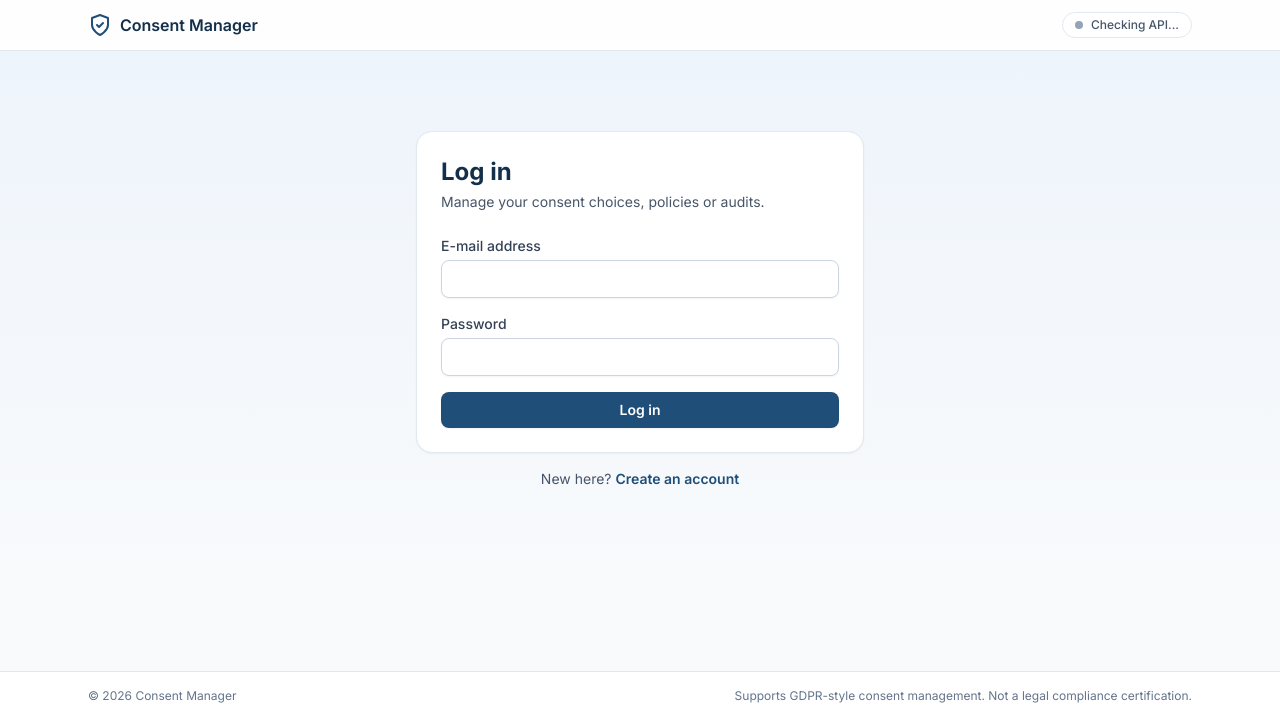
Test case: login (FR-2) › an ADMIN lands on the admin console
The width and height of the screenshot is (1280, 720).
Type "admin@demo.com" into the field labelled "E-mail address". click: [640, 279]
box: [441,260,839,298]
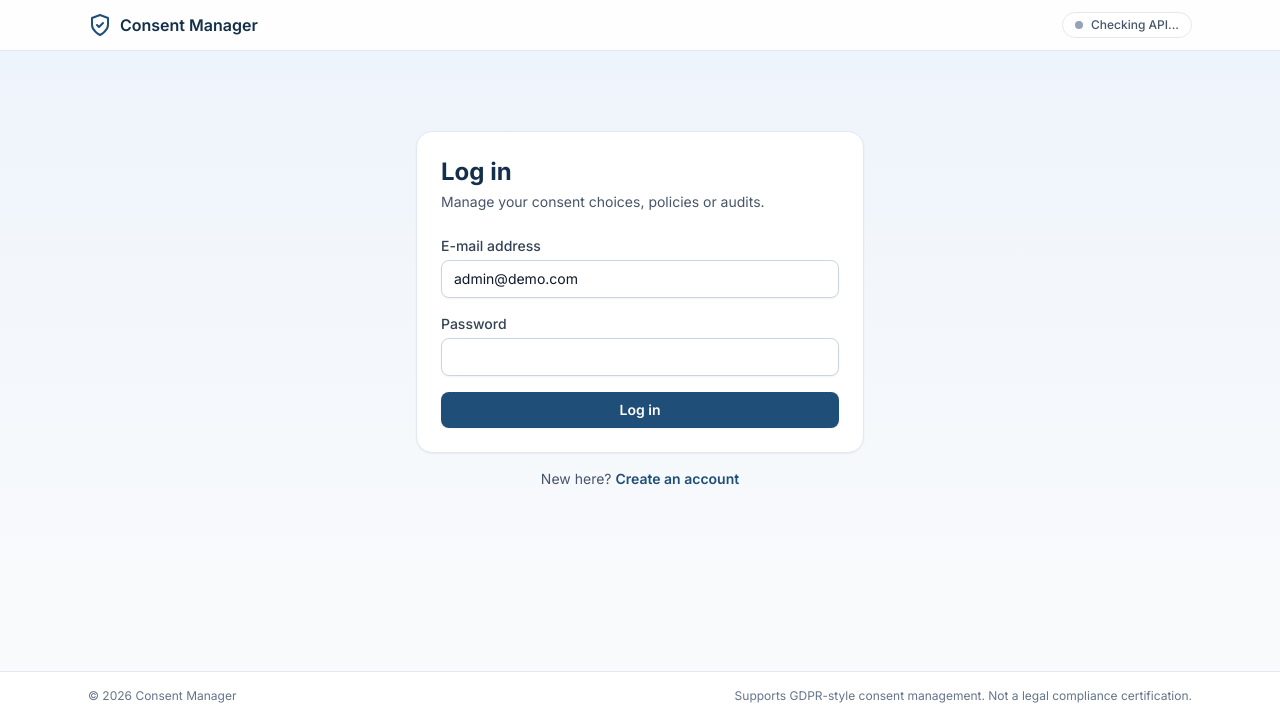
Type "Demo@12345" into the password field labelled "Password". click: [640, 357]
box: [441,338,839,376]
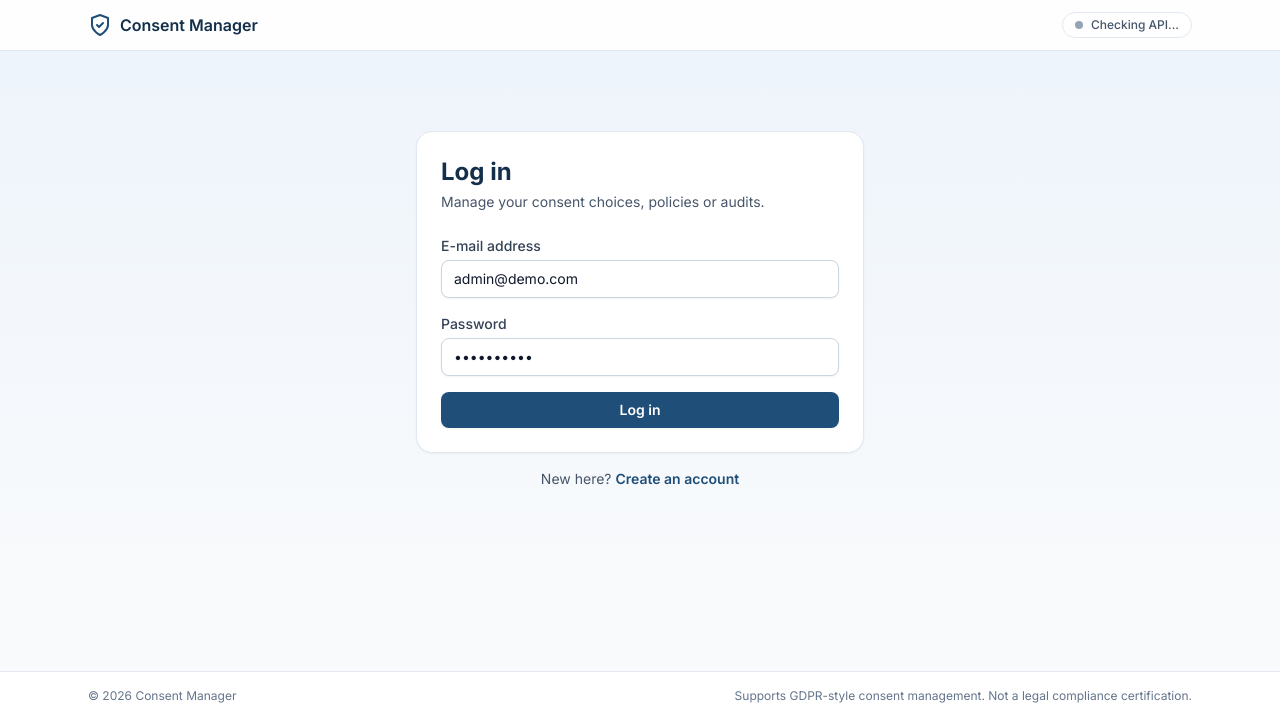
Click the button "Log in". click: [640, 410]
box: [441,392,839,428]
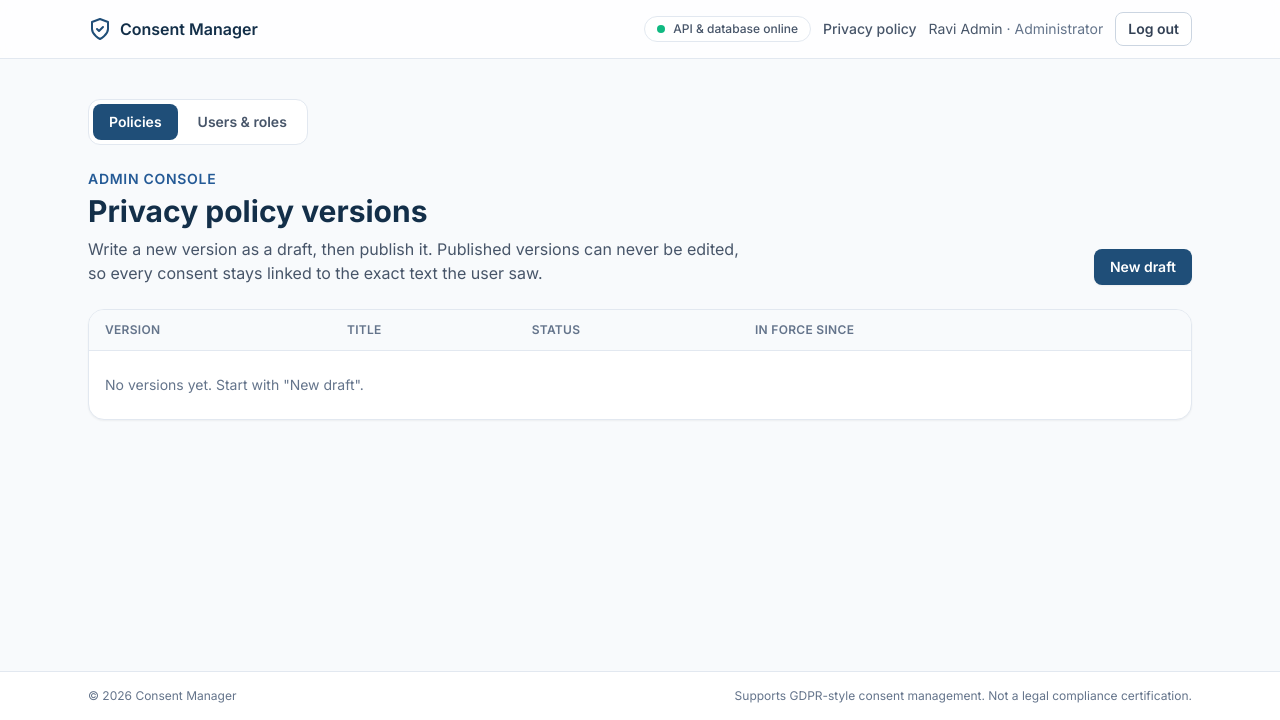
Check: the heading "Privacy policy versions" is shown, box [88,193,428,229]
